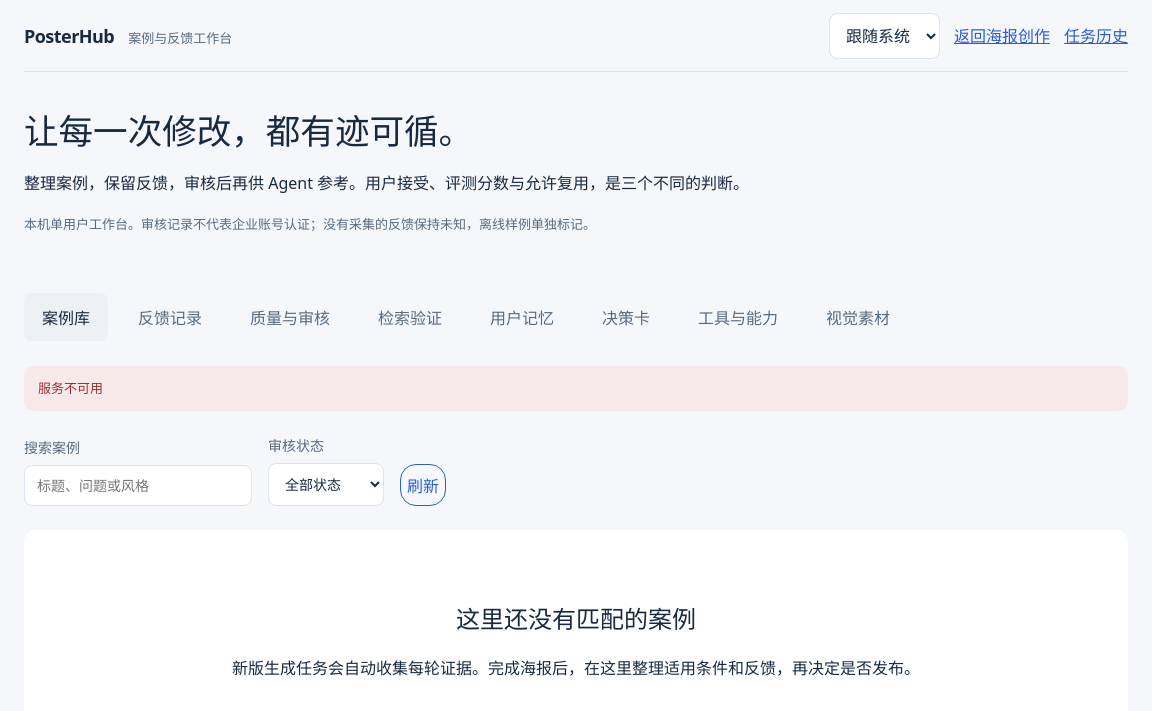
it: PosterHub › shows fetch errors and supports retry
Check: the message reads "服务不可用", box [38,379,103,397]
Click the button "刷新" at (423, 485), box [400,464,446,506]
(page scrolled)
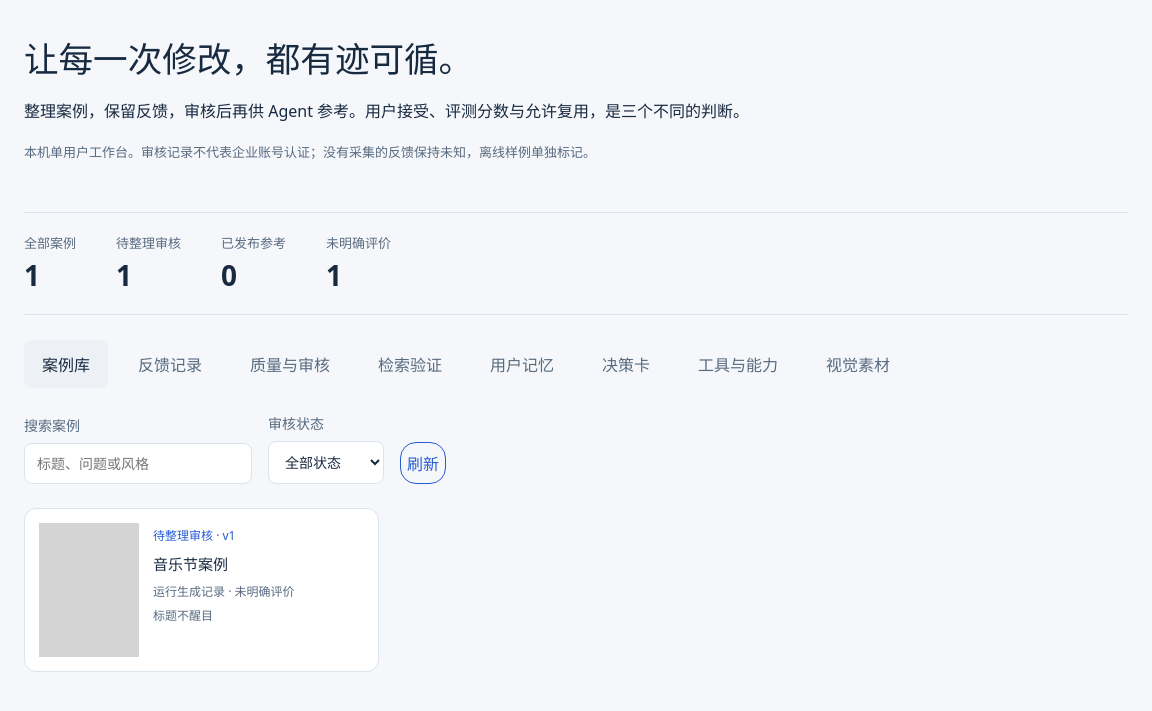
Check: the button with aria-label "查看 音乐节案例" is shown, box [25,509,378,671]
